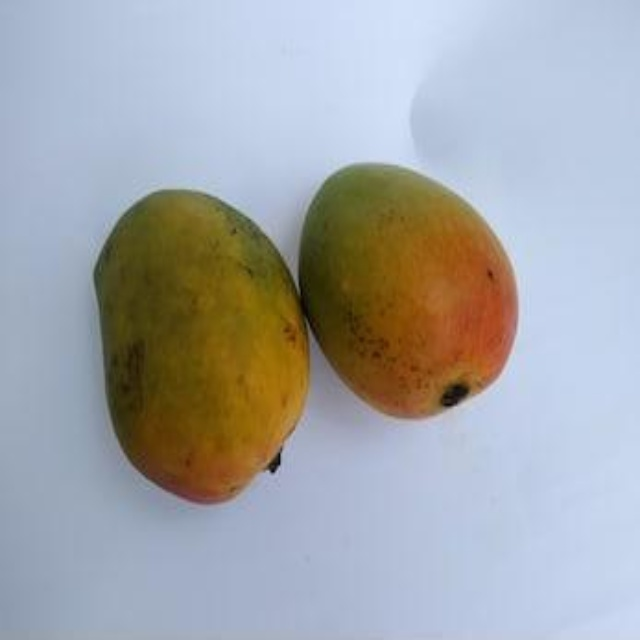mango: (88, 187, 315, 511), (297, 164, 526, 422)
